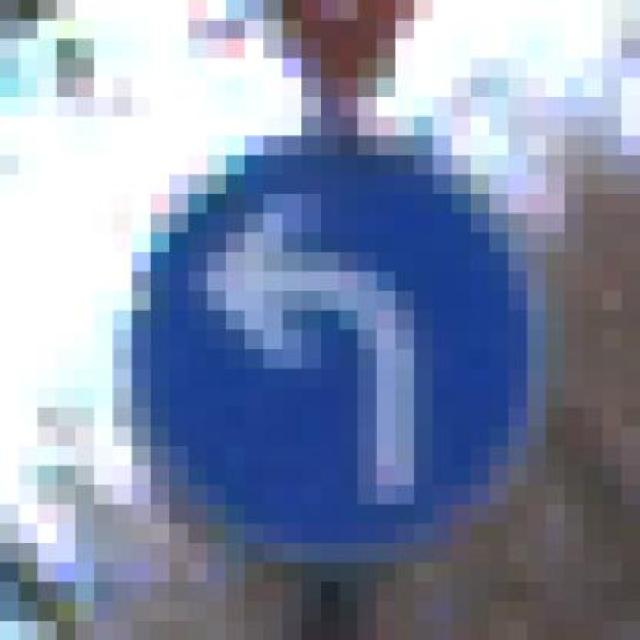Turn left ahead: (93, 130, 564, 558)
